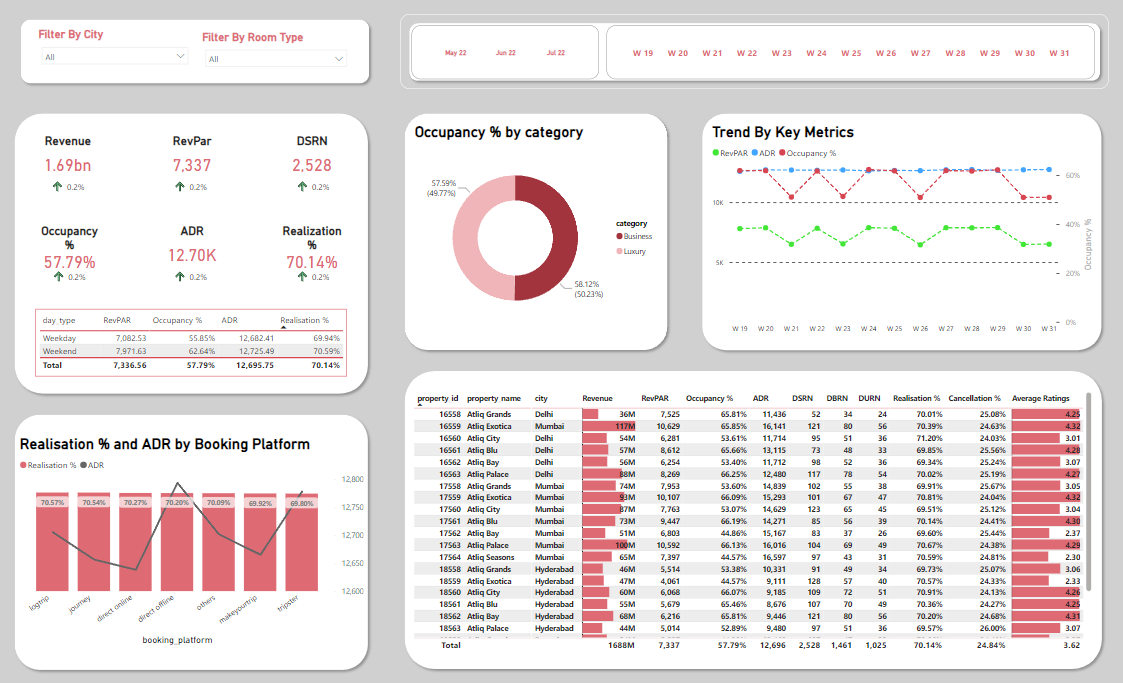

This screenshot's page, from the dashboard's own definition file:
{"tool":"powerbi","page":{"name":"Page 1","canvas":[1800,1100],"ordinal":0},"visuals":[{"type":"shape","box":[16.7,655,583.3,426.7],"z":0},{"type":"shape","box":[640,586.7,1133.3,495],"z":1000},{"type":"shape","box":[1116.7,173.3,656.7,396.7],"z":2000},{"type":"shape","box":[640,173.3,438.3,396.7],"z":3000},{"type":"shape","box":[16.7,173.3,583.3,466.7],"z":4000},{"type":"shape","box":[641.7,23.3,1133.3,120],"z":5000},{"type":"shape","box":[25,23.3,575,120],"z":6000},{"type":"tableEx","fields":{"Values":["dim_hotels.property_id","dim_hotels.property_name","dim_hotels.city","key_measures.Revenue","key_measures.RevPAR","key_measures.Occupancy %","key_measures.ADR","key_measures.DSRN","key_measures.DBRN","key_measures.DURN","key_measures.Realisation %","key_measures.Cancellation %"]},"box":[658.3,623.3,1095,423.3],"z":7000},{"type":"slicer","title":"Filter By City","fields":{"Values":["dim_hotels.city"]},"box":[58.3,46.7,255,68.3],"z":8000},{"type":"slicer","title":"Filter By Room Type","fields":{"Values":["dim_date.mmm yy"]},"box":[660,41.7,300,86.7],"z":9000},{"type":"slicer","fields":{"Values":["dim_date.week no"]},"box":[971.7,41.7,781.7,86.7],"z":10000},{"type":"tableEx","fields":{"Values":["key_measures.Revenue WoW change %"]},"box":[73.3,255,75,70],"z":11000},{"type":"donutChart","fields":{"Category":["dim_hotels.category"],"Y":["key_measures.Occupancy %"]},"box":[660,198.3,400,341.7],"z":12000},{"type":"card","title":"Revenue","fields":{"Values":["key_measures.Revenue"]},"box":[55,216.7,108.3,75],"z":16000},{"type":"lineChart","title":"Trend By Key Metrics","fields":{"Category":["dim_date.mmm yy.Variation.Date Hierarchy.Month","dim_date.week no"],"Y":["key_measures.RevPAR","key_measures.ADR"],"Y2":["key_measures.Occupancy %"]},"box":[1136.7,198.3,618.3,346.7],"z":19000},{"type":"lineStackedColumnComboChart","title":"Realisation % and ADR by Booking Platform","fields":{"Category":["fact_bookings.booking_platform"],"Y":["key_measures.Realisation %"],"Y2":["key_measures.ADR"]},"box":[28.3,698.3,560,340],"z":20000},{"type":"tableEx","fields":{"Values":["dim_date.day_type","key_measures.RevPAR","key_measures.Occupancy %","key_measures.ADR","key_measures.Realisation %"]},"box":[58.3,495,498.3,108.3],"z":21000},{"type":"slicer","title":"Filter By Room Type","fields":{"Values":["dim_rooms.room_class"]},"box":[320,50,246.7,68.3],"z":22000},{"type":"tableEx","fields":{"Values":["key_measures.Revenue WoW change %"]},"box":[270,255,75,70],"z":23000},{"type":"tableEx","fields":{"Values":["key_measures.Revenue WoW change %"]},"box":[465,255,75,70],"z":24000},{"type":"tableEx","fields":{"Values":["key_measures.Revenue WoW change %"]},"box":[76.7,400,75,70],"z":25000},{"type":"tableEx","fields":{"Values":["key_measures.Revenue WoW change %"]},"box":[270,400,75,70],"z":26000},{"type":"tableEx","fields":{"Values":["key_measures.Revenue WoW change %"]},"box":[466.7,400,75,70],"z":27000},{"type":"card","title":"Occupancy %","fields":{"Values":["key_measures.Occupancy %"]},"box":[58.3,360,110,75],"z":27500},{"type":"card","title":"ADR","fields":{"Values":["key_measures.ADR"]},"box":[253.3,360,110,75],"z":28000},{"type":"card","title":"Realization %","fields":{"Values":["key_measures.Realisation %"]},"box":[446.7,360,110,75],"z":28500},{"type":"card","title":"RevPar","fields":{"Values":["key_measures.RevPAR"]},"box":[253.3,216.7,110,75],"z":29000},{"type":"card","title":"DSRN","fields":{"Values":["key_measures.DSRN"]},"box":[446.7,216.7,110,75],"z":29500}]}

Visuals, with their boxes in screenshot pixels (x1, y1, x2, y2), scaled from the page's 1800x1100 canvas onto the 1123x683 screenshot:
shape: {"left": 10, "top": 407, "right": 374, "bottom": 672}
shape: {"left": 399, "top": 364, "right": 1106, "bottom": 672}
shape: {"left": 697, "top": 108, "right": 1106, "bottom": 354}
shape: {"left": 399, "top": 108, "right": 673, "bottom": 354}
shape: {"left": 10, "top": 108, "right": 374, "bottom": 397}
shape: {"left": 400, "top": 14, "right": 1107, "bottom": 89}
shape: {"left": 16, "top": 14, "right": 374, "bottom": 89}
tableEx - dim_hotels.property_id x dim_hotels.property_name: {"left": 411, "top": 387, "right": 1094, "bottom": 650}
"Filter By City" slicer: {"left": 36, "top": 29, "right": 195, "bottom": 71}
"Filter By Room Type" slicer: {"left": 412, "top": 26, "right": 599, "bottom": 80}
slicer - dim_date.week no: {"left": 606, "top": 26, "right": 1094, "bottom": 80}
tableEx - key_measures.Revenue WoW change %: {"left": 46, "top": 158, "right": 93, "bottom": 202}
donutChart - dim_hotels.category x key_measures.Occupancy %: {"left": 412, "top": 123, "right": 661, "bottom": 335}
"Revenue" card: {"left": 34, "top": 135, "right": 102, "bottom": 181}
"Trend By Key Metrics" lineChart: {"left": 709, "top": 123, "right": 1095, "bottom": 338}
"Realisation % and ADR by Booking Platform" lineStackedColumnComboChart: {"left": 18, "top": 434, "right": 367, "bottom": 645}
tableEx - dim_date.day_type x key_measures.RevPAR: {"left": 36, "top": 307, "right": 347, "bottom": 375}
"Filter By Room Type" slicer: {"left": 200, "top": 31, "right": 354, "bottom": 73}
tableEx - key_measures.Revenue WoW change %: {"left": 168, "top": 158, "right": 215, "bottom": 202}
tableEx - key_measures.Revenue WoW change %: {"left": 290, "top": 158, "right": 337, "bottom": 202}
tableEx - key_measures.Revenue WoW change %: {"left": 48, "top": 248, "right": 95, "bottom": 292}
tableEx - key_measures.Revenue WoW change %: {"left": 168, "top": 248, "right": 215, "bottom": 292}
tableEx - key_measures.Revenue WoW change %: {"left": 291, "top": 248, "right": 338, "bottom": 292}
"Occupancy %" card: {"left": 36, "top": 224, "right": 105, "bottom": 270}
"ADR" card: {"left": 158, "top": 224, "right": 227, "bottom": 270}
"Realization %" card: {"left": 279, "top": 224, "right": 347, "bottom": 270}
"RevPar" card: {"left": 158, "top": 135, "right": 227, "bottom": 181}
"DSRN" card: {"left": 279, "top": 135, "right": 347, "bottom": 181}
